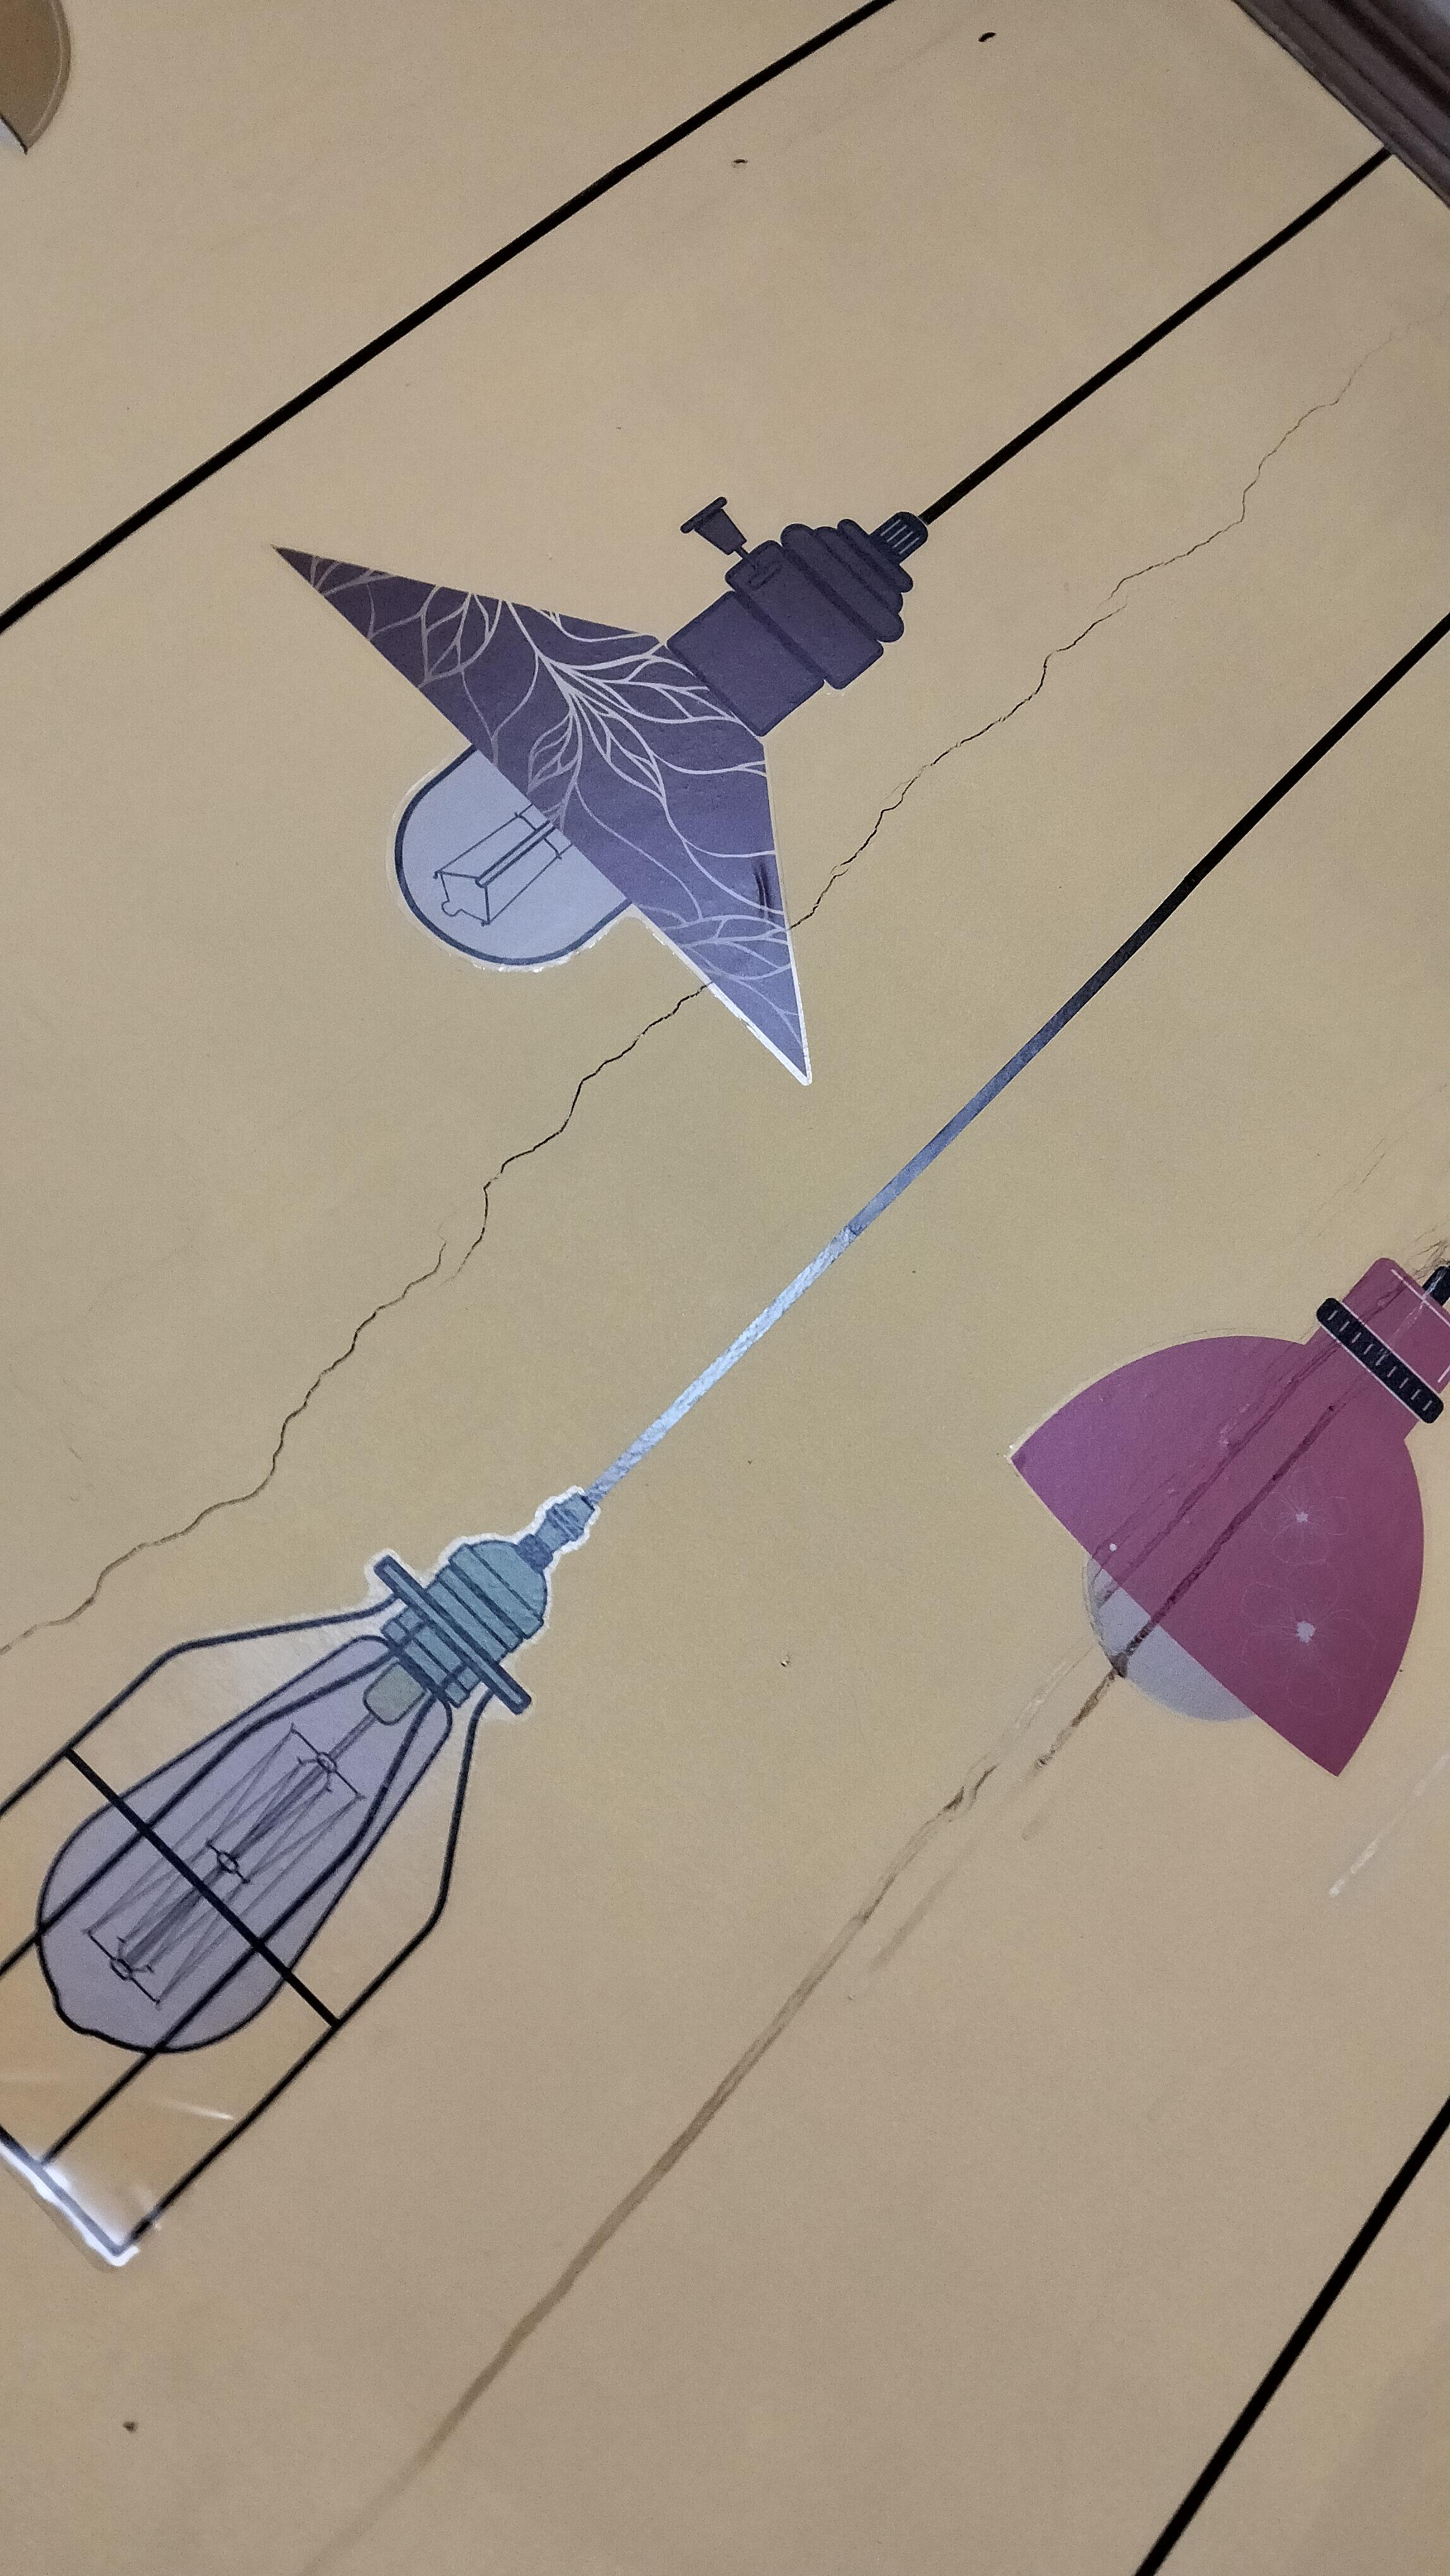Crack: (0, 978, 715, 1668), (791, 285, 1450, 939)
